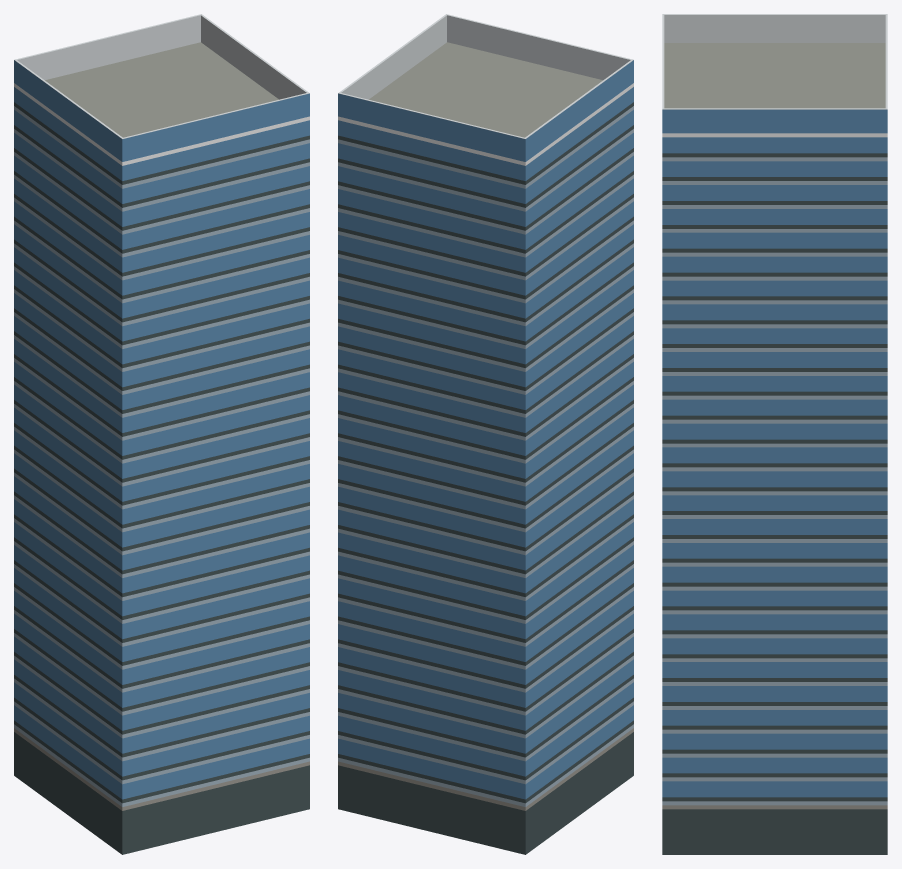
Rendered from far.fbx.
3 renders of one model, left to right at view 1: azimuth 30°, elevation 25°; view 2: azimuth 150°, elevation 25°; view 3: azimuth 270°, elevation 25°, orthographic. The views are drawn at different scales.
Parts seen in each view (by area): view 1: a2011/0/far; view 2: a2011/0/far; view 3: a2011/0/far.
Part boxes in pixels (box(x1,y1,x2,y2)): a2011/0/far: box(14, 14, 309, 854); a2011/0/far: box(338, 14, 633, 854); a2011/0/far: box(662, 14, 887, 854).
Bounding box in the file's own units: 30 × 109 × 30.
